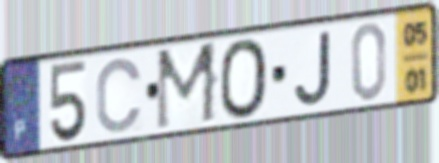0: (348, 20, 388, 103)
5: (48, 57, 88, 145)
C: (95, 55, 145, 136)
J: (291, 27, 333, 108)
M: (153, 38, 221, 135)
O: (218, 35, 270, 121)
